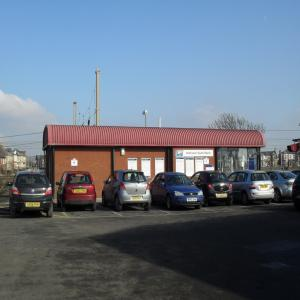Vehicle-registration-plate: (26, 202, 42, 209), (132, 197, 142, 201), (188, 199, 198, 203), (219, 195, 228, 198), (76, 191, 87, 193), (261, 186, 268, 189)
